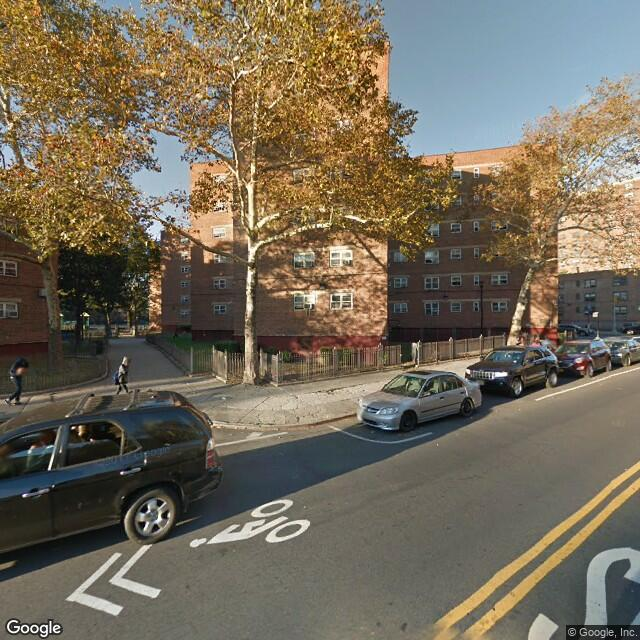litter: (219, 394, 228, 403)
